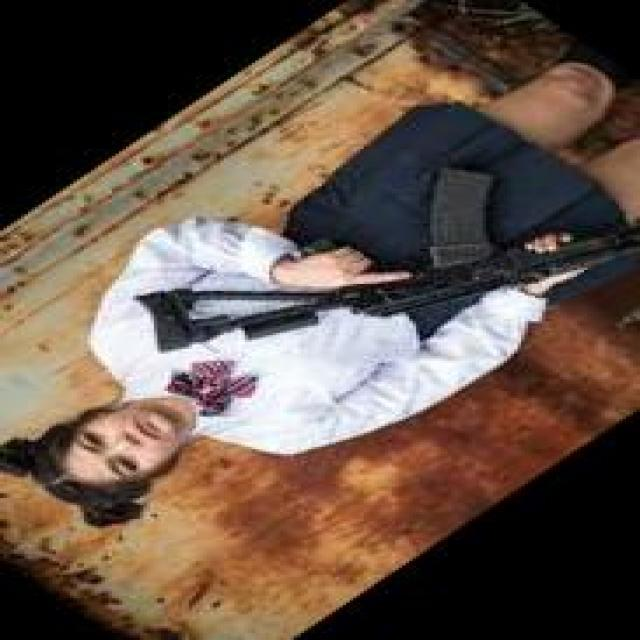weapon: (129, 165, 640, 356)
